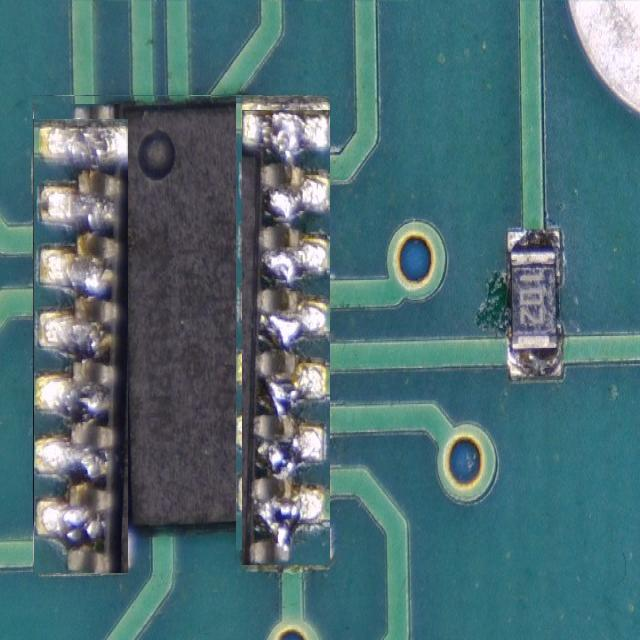Incorrect_installation: (33, 95, 330, 573)
Short_circuit: (33, 120, 128, 572), (242, 110, 330, 565)
